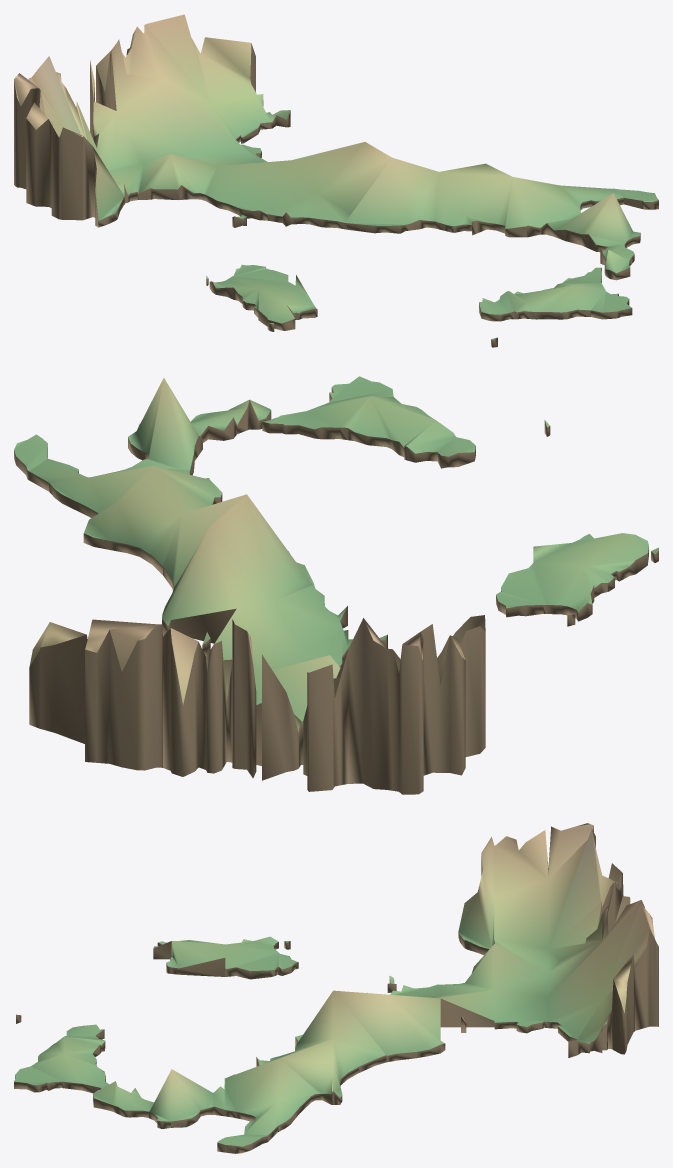
The model's file is ITA.glb.
3 views of the same model, one above another, from view 1: azimuth 30°, elevation 25°; view 2: azimuth 150°, elevation 25°; view 3: azimuth 270°, elevation 25° (orthographic). The views are drawn at different scales.
Parts seen in each view (by area): view 1: ITA; view 2: ITA; view 3: ITA.
Part boxes in pixels (bbox=[...]): ITA: bbox=[14, 14, 658, 347]; ITA: bbox=[14, 376, 658, 794]; ITA: bbox=[14, 823, 658, 1153].
Size of the model in its own units: 1.41 by 0.338 by 1.67.
